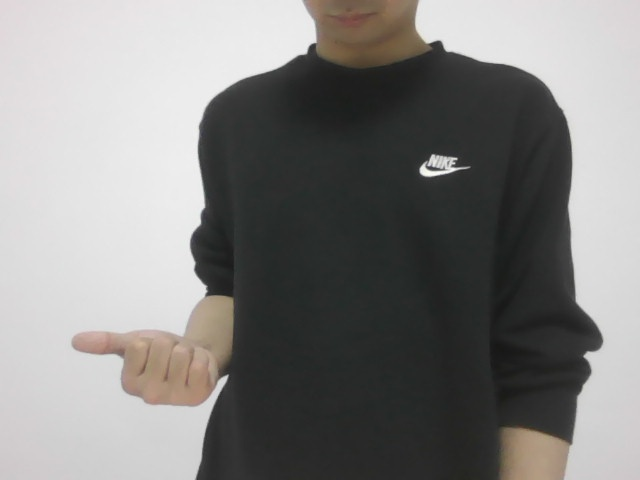have: (59, 319, 216, 410)
